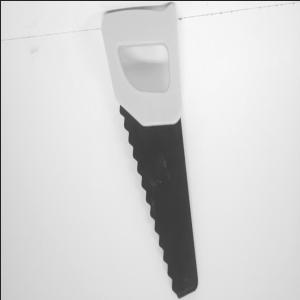serrote: (98, 2, 198, 298)
